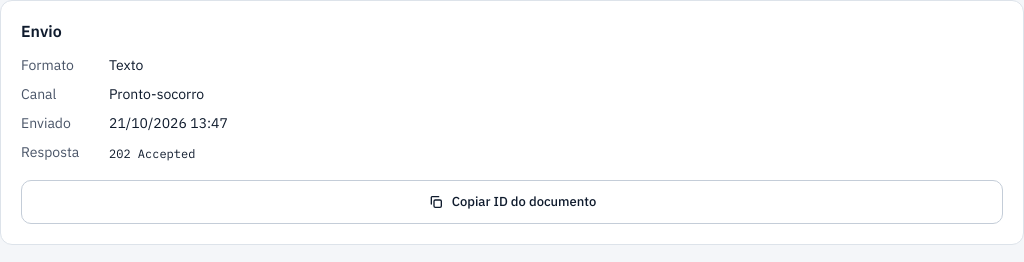
Scenario: CardEnvio › avisa quando o navegador não deixa copiar
Click the button "Copiar ID do documento" at (512,202), box [21, 180, 1003, 224]
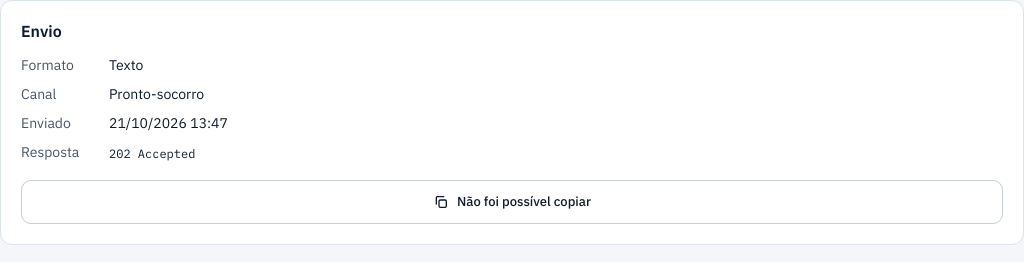
Expected: the button "Não foi possível copiar" is shown, [21, 180, 1003, 224]
